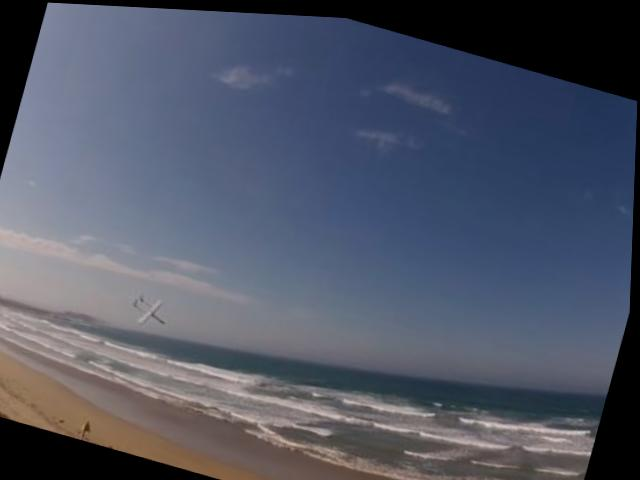uav: (127, 284, 176, 334)
